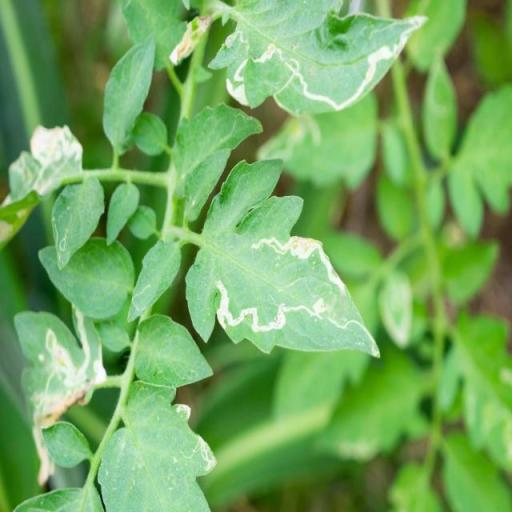disease_tomato: (187, 157, 381, 358), (206, 0, 428, 122)
